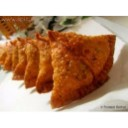samosa: (47, 28, 118, 109), (34, 32, 60, 94), (19, 35, 47, 87)
